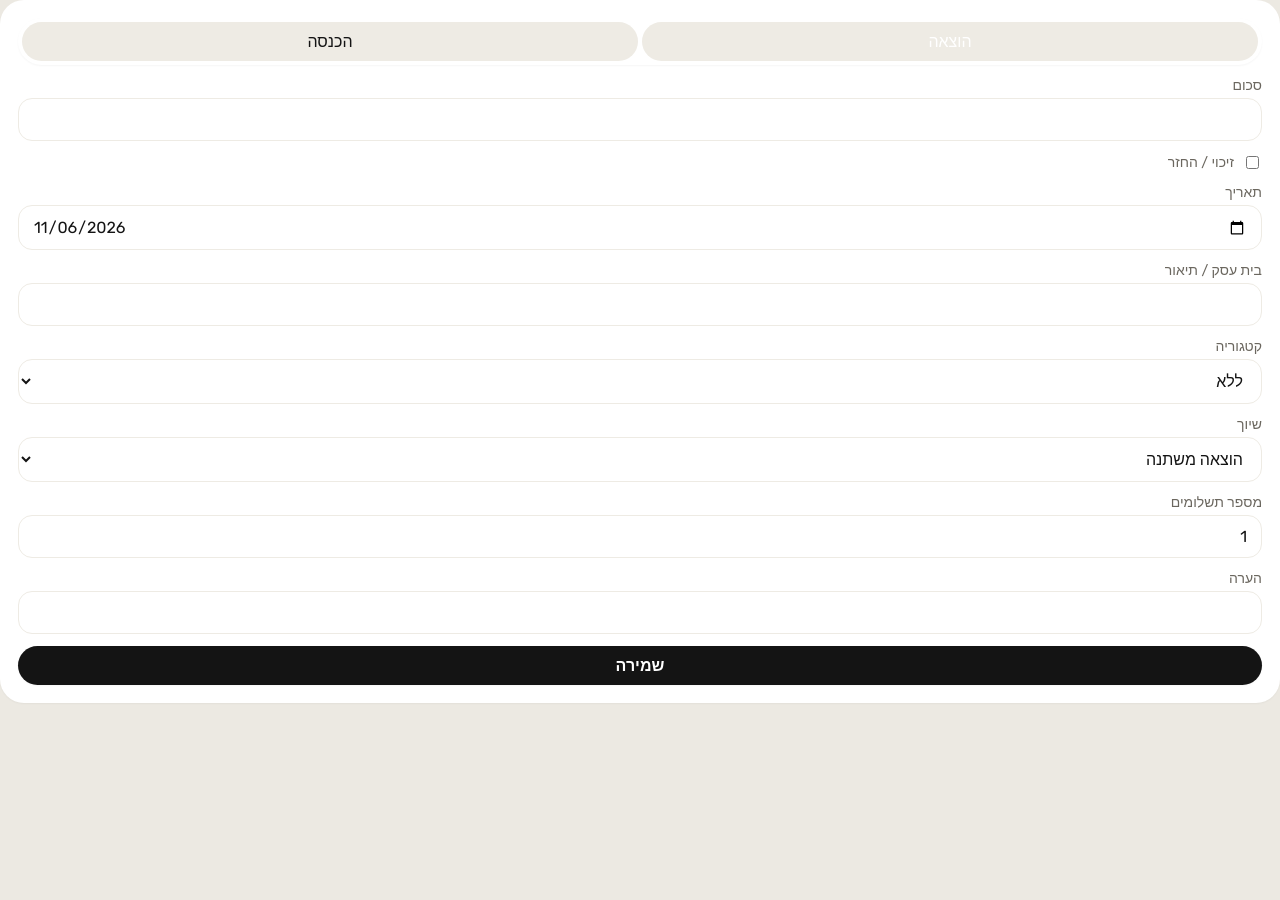
income hides funds and installments and offers only income items
The width and height of the screenshot is (1280, 900).
Click the button "הכנסה" at [330, 42], box [22,22,638,61]
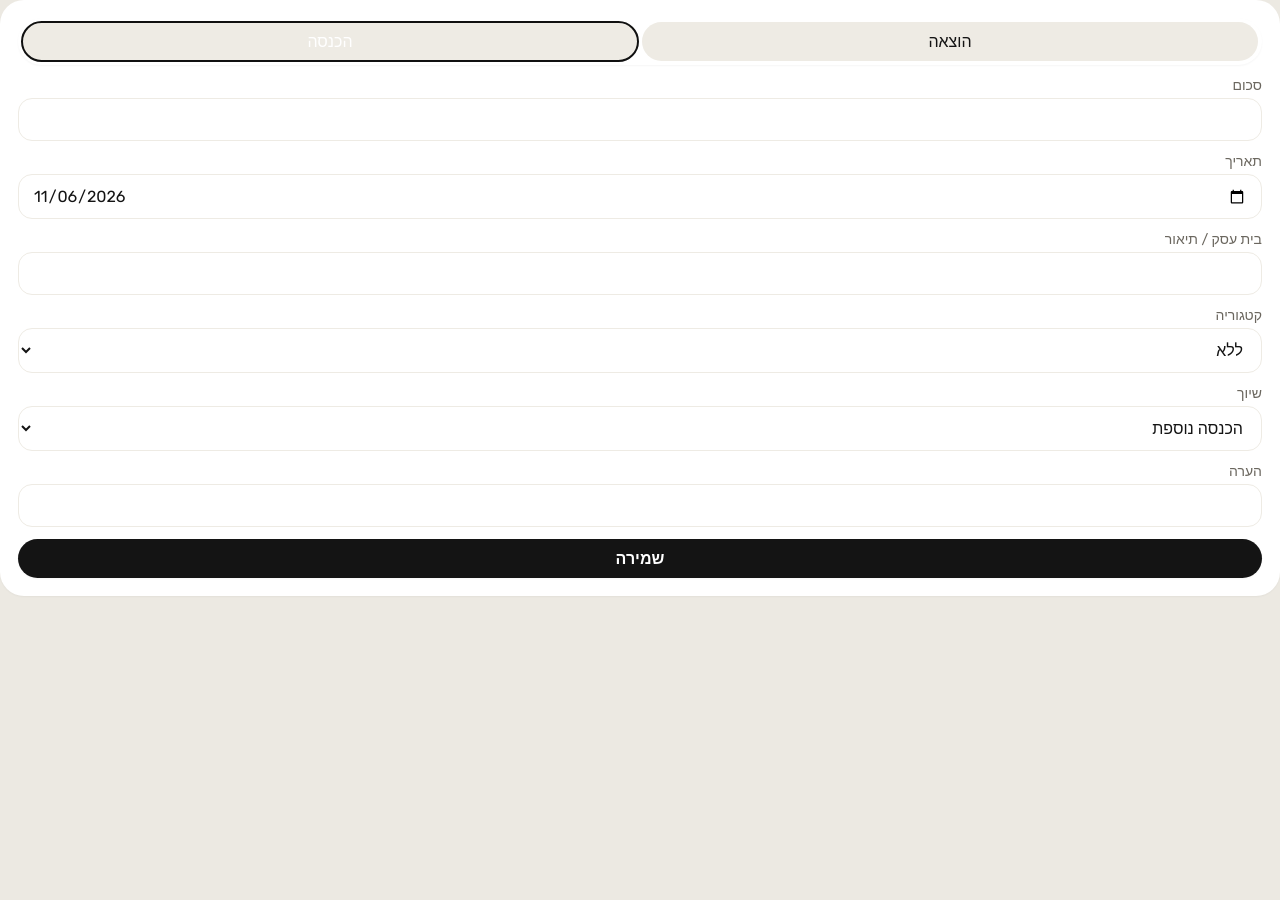
Expected: the label labelled "מספר תשלומים" is gone
